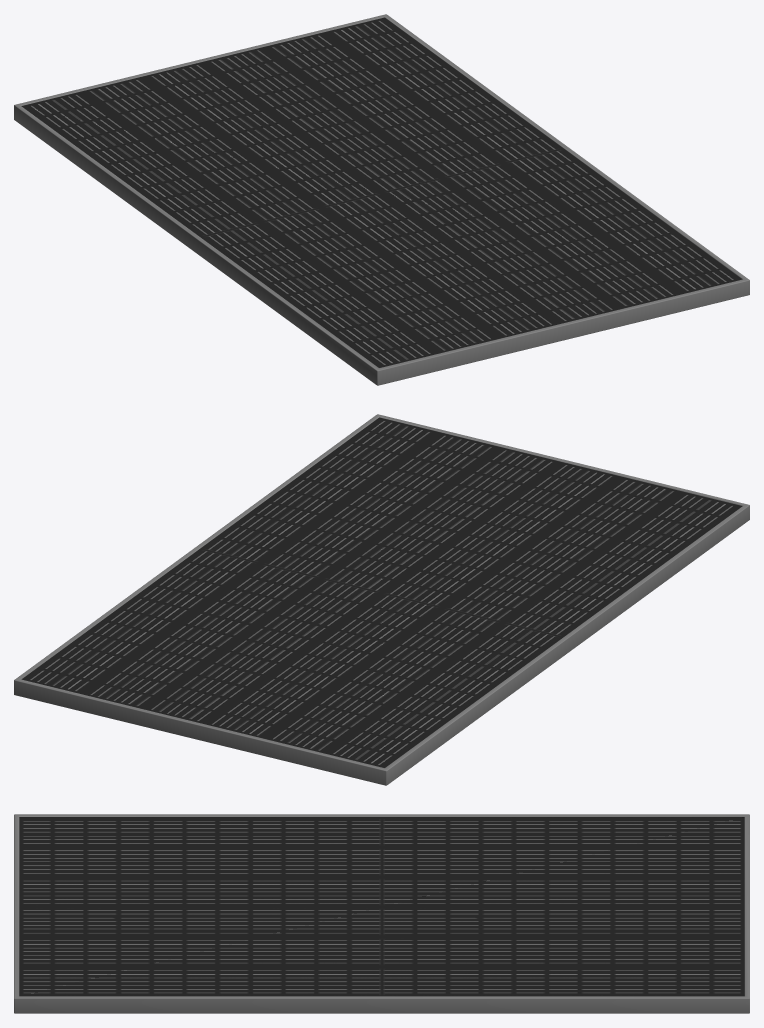
3 views of the same model, one above another, from view 1: azimuth 30°, elevation 25°; view 2: azimuth 150°, elevation 25°; view 3: azimuth 270°, elevation 25° (orthographic).
Visible parts, largest first — view 1: Mesh1_M_Solar_Cell_0, Mesh1_M_Aluminium_Frame_0; view 2: Mesh1_M_Solar_Cell_0, Mesh1_M_Aluminium_Frame_0; view 3: Mesh1_M_Solar_Cell_0, Mesh1_M_Aluminium_Frame_0.
Boxes of the visible parts, bbox=[...] form: Mesh1_M_Solar_Cell_0: bbox=[21, 17, 742, 367]; Mesh1_M_Aluminium_Frame_0: bbox=[14, 14, 749, 385]; Mesh1_M_Solar_Cell_0: bbox=[21, 417, 742, 767]; Mesh1_M_Aluminium_Frame_0: bbox=[14, 414, 749, 785]; Mesh1_M_Solar_Cell_0: bbox=[19, 817, 744, 996]; Mesh1_M_Aluminium_Frame_0: bbox=[14, 814, 749, 1013].
Bounding box in the file's own units: 103 × 4.79 × 174.
Materials: 8 (2 with a texture image).
